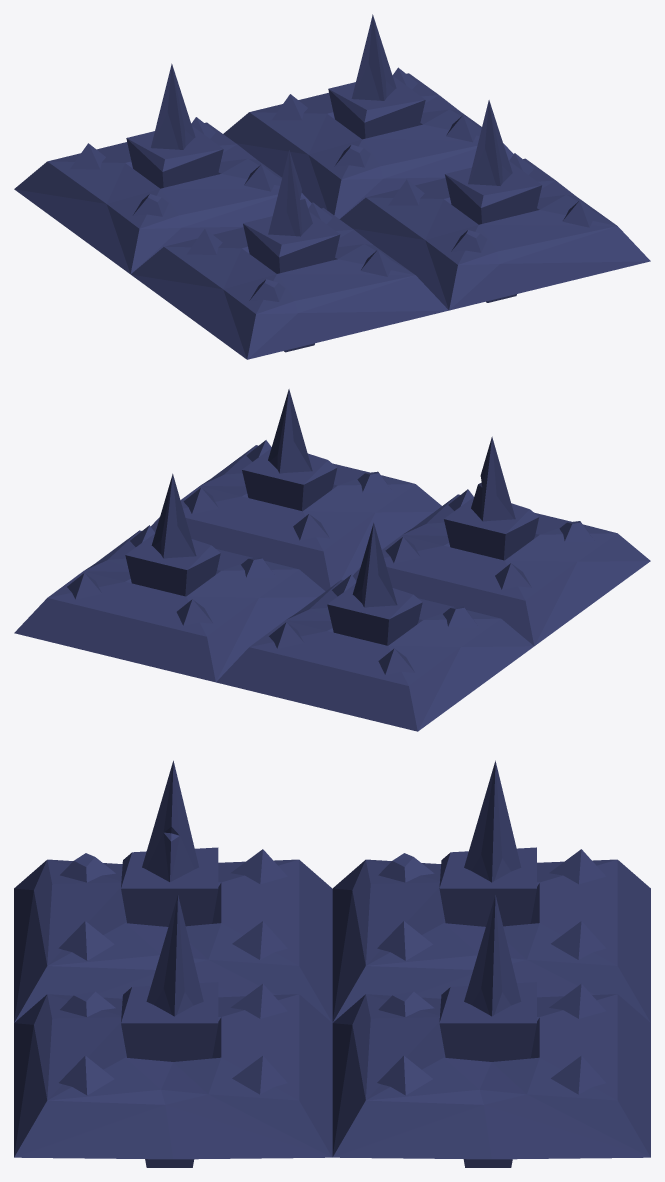
File: Spikes_Fixed.FBX
3 renders of one model, top to bottom at view 1: azimuth 30°, elevation 25°; view 2: azimuth 150°, elevation 25°; view 3: azimuth 270°, elevation 25°, orthographic. The views are drawn at different scales.
Parts seen in each view (by area): view 1: FixedSpikes; view 2: FixedSpikes; view 3: FixedSpikes.
Part boxes in pixels (x1,y1,x2,y2): FixedSpikes: (14, 14, 650, 359); FixedSpikes: (14, 389, 650, 731); FixedSpikes: (14, 760, 650, 1167).
Bounding box in the file's own units: 40.25 × 18.21 × 40.
